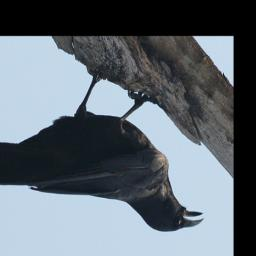Crow: (0, 68, 207, 233)
